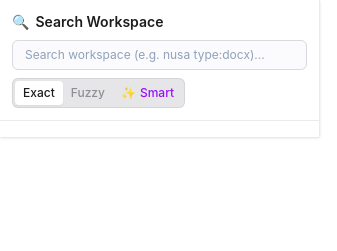
Test case: SearchPanel & Realtime Search UI › Handles malformed query and stale index errors gracefully
The image size is (337, 251).
In the field with placeholder "Search workspace (e.g. nusa type:docx)...": (160, 55) x1=12 y1=40 x2=307 y2=70, type "type:"
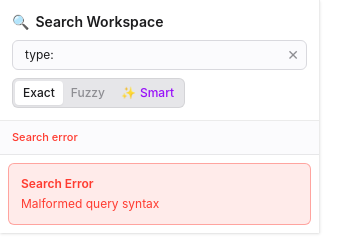
Expected: the text "Malformed query syntax" is shown, x1=21 y1=196 x2=159 y2=210
